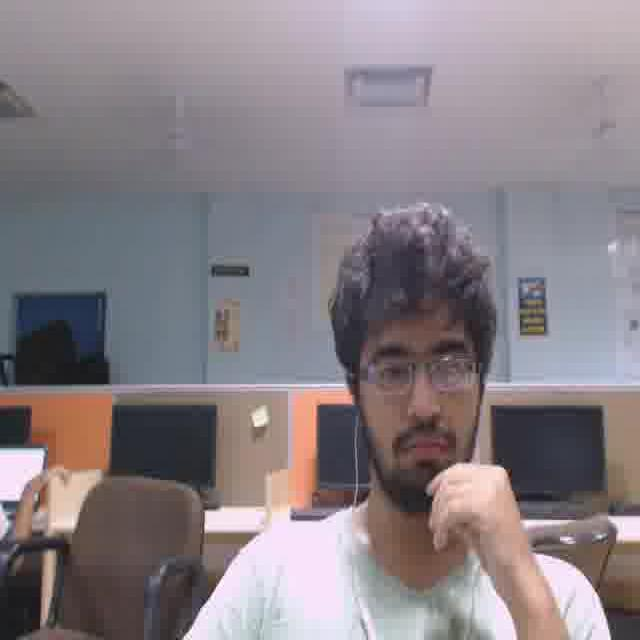Boredom: (357, 295, 482, 497)
